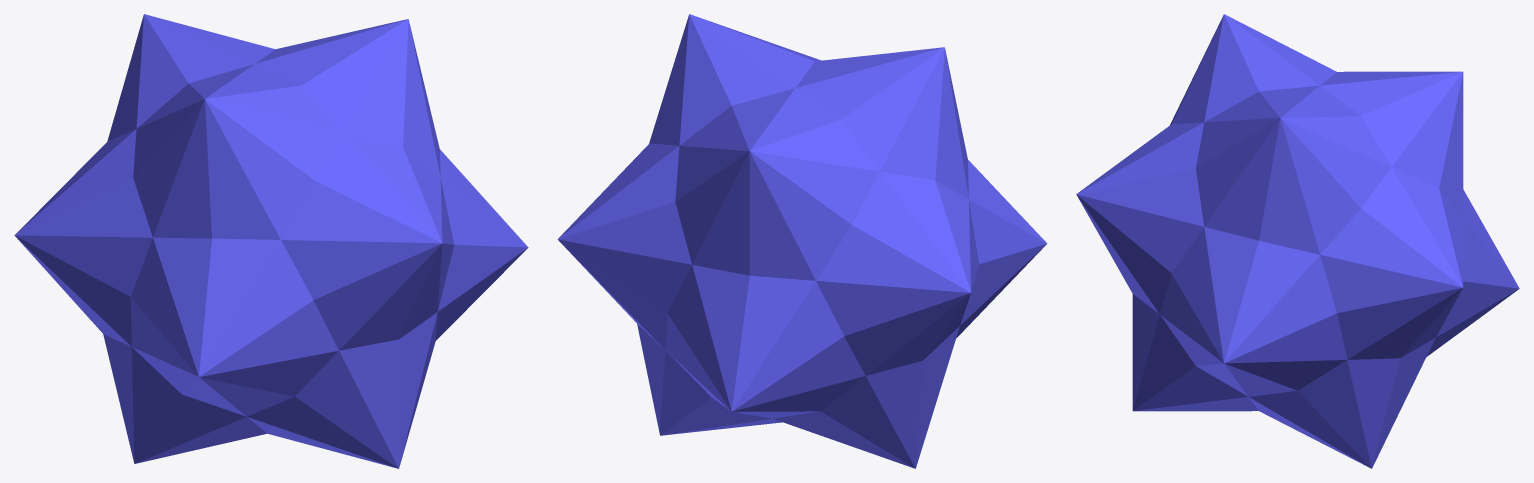
Rendered from small_rhombidodecacron.obj.
3 views of the same model, side by side, from view 1: azimuth 30°, elevation 25°; view 2: azimuth 150°, elevation 25°; view 3: azimuth 270°, elevation 25° (orthographic). The views are drawn at different scales.
Parts seen in each view (by area): view 1: Shape_IndexedFaceSet; view 2: Shape_IndexedFaceSet; view 3: Shape_IndexedFaceSet.
Part boxes in pixels (<box>): Shape_IndexedFaceSet: <box>14,14,528,468</box>; Shape_IndexedFaceSet: <box>557,14,1047,468</box>; Shape_IndexedFaceSet: <box>1076,14,1519,468</box>.
Bounding box in the file's own units: 2.67 × 2.34 × 2.62.
